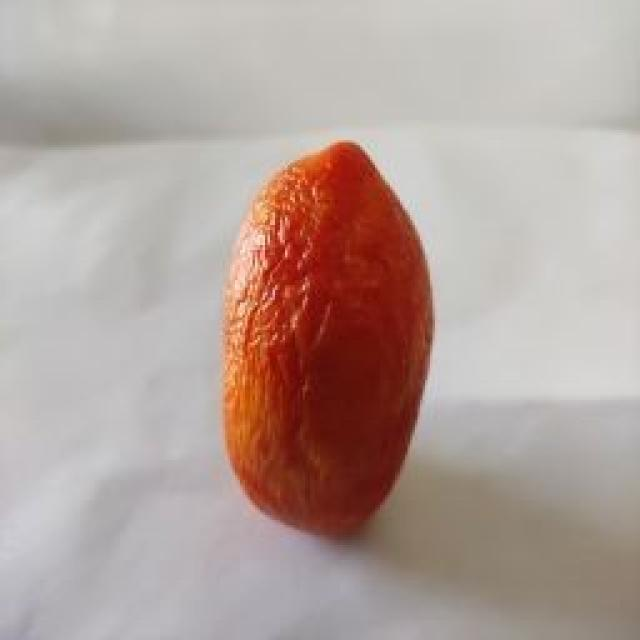overripe: (216, 141, 439, 538)
